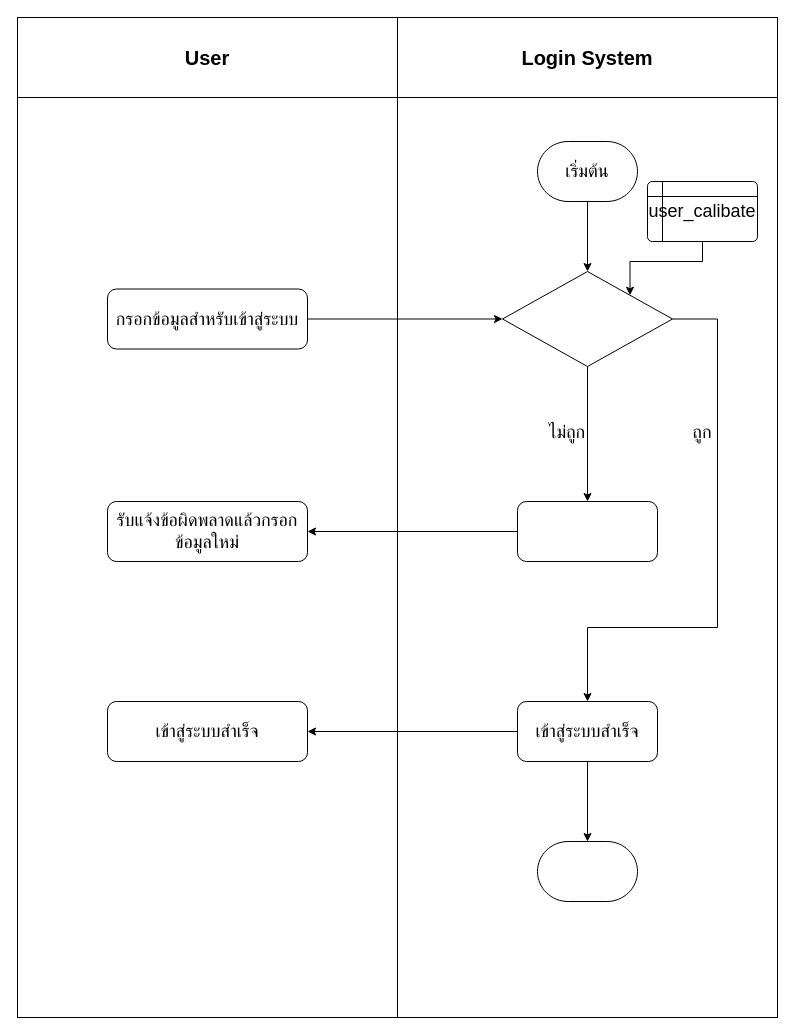
This 795x1035 diagram has some shape labels left out. The centre of each missing label's shape, as x and y in pixels:
"จบ" belongs at point (587, 871).
"ตรวจสอบ username และpassword" belongs at point (587, 318).
"แจ้งข้อผิดพลาด" belongs at point (587, 531).
